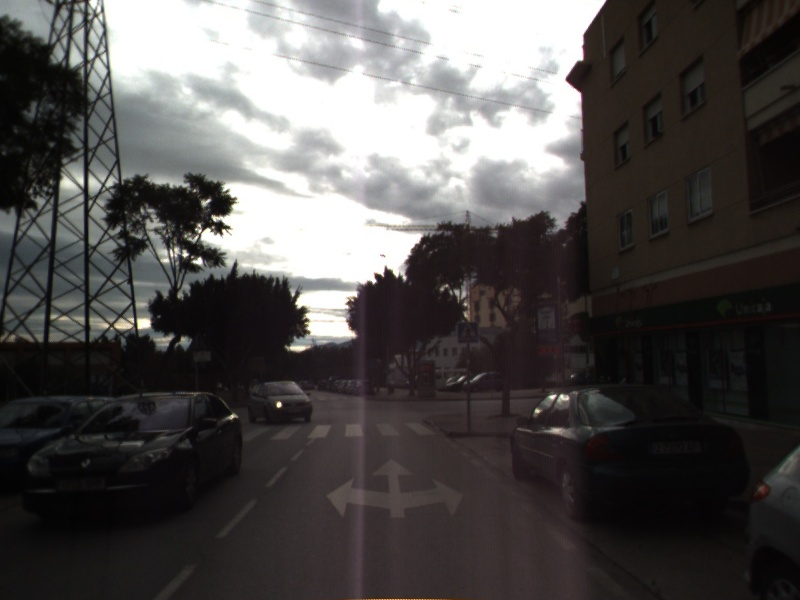STRAIGHT_LEFT_RIGHT: (323, 456, 466, 521)
